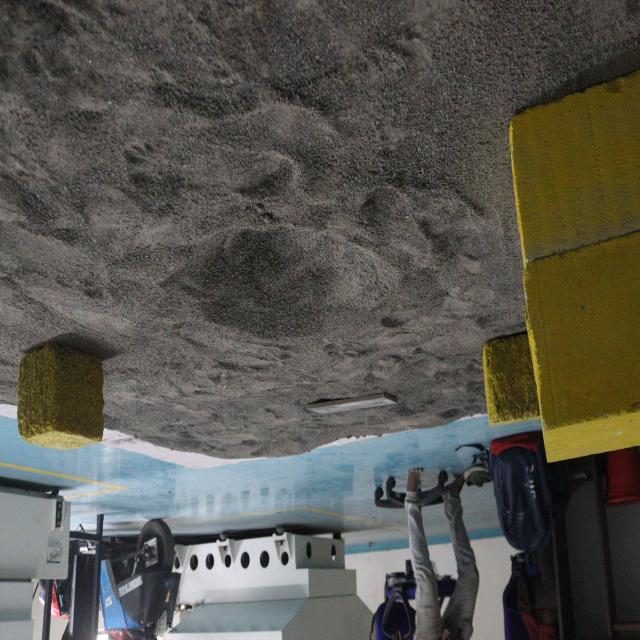box: (523, 48, 640, 474), (21, 344, 110, 456), (484, 328, 538, 426)
crater: (156, 195, 392, 369)
